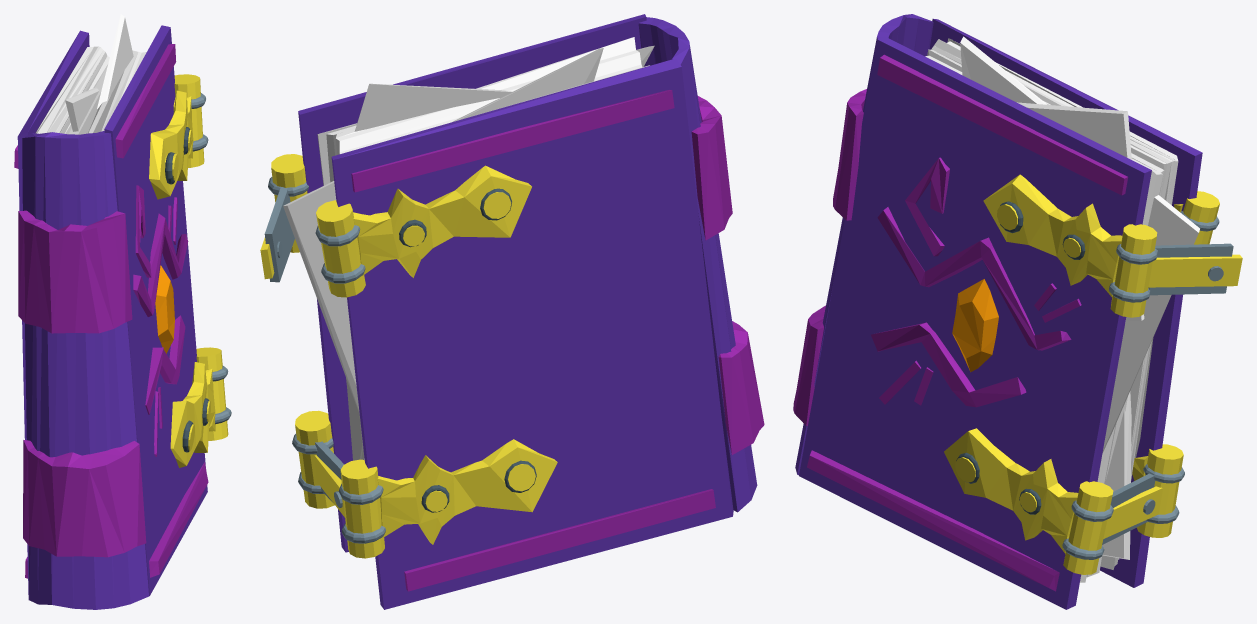
File: Spellbook.glb
The picture shows the model from 3 angles, left to right: view 1: azimuth 30°, elevation 25°; view 2: azimuth 150°, elevation 25°; view 3: azimuth 270°, elevation 25°; orthographic projection. The views are drawn at different scales.
Parts seen in each view (by area): view 1: group951786471, group672885780, group454791396, group360014151, group1557057382, group1415033628, group1664937306, group1413419146, group358068670, group995637574, group1933355076, group1861348782 (+6 smaller); view 2: group1413419146, group672885780, group1727339109, group1436210806, group951786471, group844920729, group687914045, group1396131500, group1557057382, group360014151, group985262928, group454791396 (+7 smaller); view 3: group672885780, group1413419146, group844920729, group1664937306, group1415033628, group1557057382, group995637574, group1933355076, group358068670, group1861348782, group2115018793, group985262928 (+13 smaller).
Boxes of the visible parts, box(x1,y1,x2,y2) form: group951786471: box(22, 130, 148, 609); group672885780: box(104, 25, 207, 596); group454791396: box(23, 440, 146, 557); group360014151: box(18, 210, 132, 333); group1557057382: box(35, 46, 146, 134); group1415033628: box(170, 362, 215, 467); group1664937306: box(149, 90, 193, 199); group1413419146: box(17, 30, 89, 600); group358068670: box(133, 213, 188, 316); group995637574: box(115, 44, 176, 158); group1933355076: box(149, 462, 208, 577); group1861348782: box(145, 315, 185, 414); group1413419146: box(331, 58, 733, 609); group672885780: box(298, 14, 646, 552); group1727339109: box(353, 165, 531, 277); group1436210806: box(377, 439, 557, 544); group951786471: box(638, 17, 757, 512); group844920729: box(283, 48, 603, 413); group687914045: box(351, 90, 674, 192); group1396131500: box(404, 489, 715, 591); group1557057382: box(326, 37, 649, 460); group360014151: box(691, 96, 732, 240); group985262928: box(354, 83, 512, 131); group454791396: box(718, 321, 764, 454); group672885780: box(799, 36, 1151, 609); group1413419146: box(929, 18, 1202, 587); group844920729: box(960, 36, 1199, 452); group1664937306: box(983, 174, 1122, 297); group1415033628: box(944, 428, 1078, 553); group1557057382: box(925, 38, 1178, 582); group995637574: box(877, 54, 1128, 195); group1933355076: box(807, 450, 1059, 591); group358068670: box(877, 207, 1071, 350); group1861348782: box(871, 322, 1026, 407); group2115018793: box(952, 279, 998, 372); group985262928: box(1017, 102, 1144, 321).
Size of the model in its own units: 1.14 by 1.71 by 1.41.
